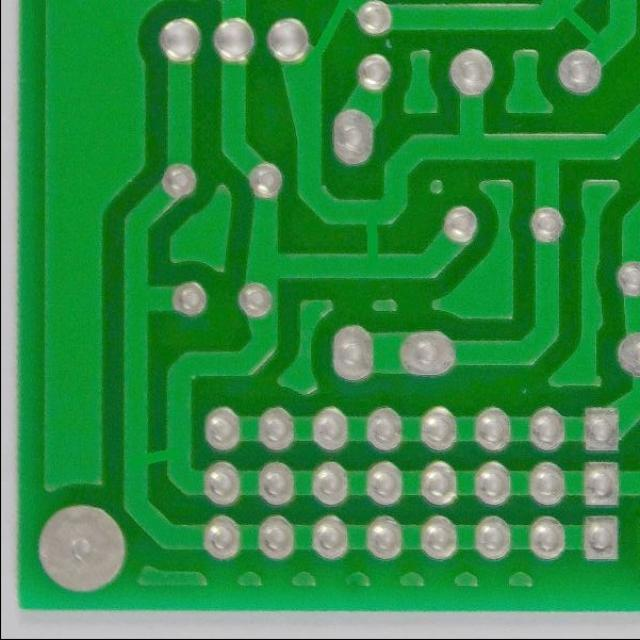Short_Circuit: (342, 194, 401, 287), (115, 432, 200, 482), (551, 0, 615, 54), (306, 0, 353, 70)
